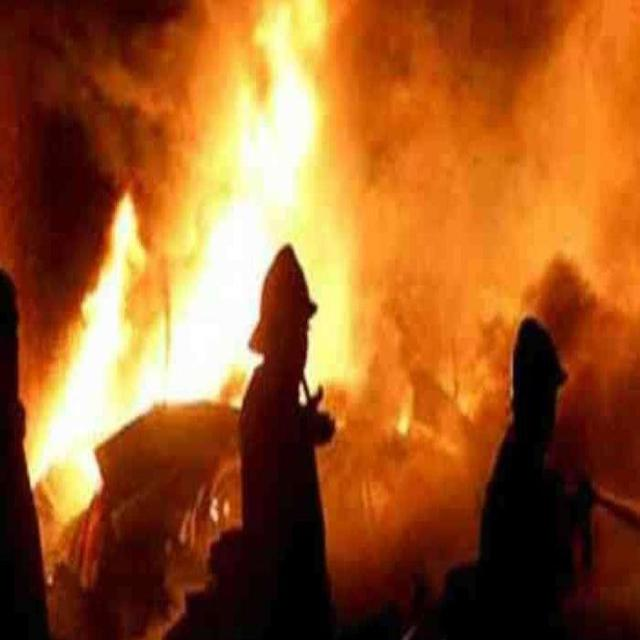Fire: (125, 5, 326, 428), (24, 172, 147, 501)
